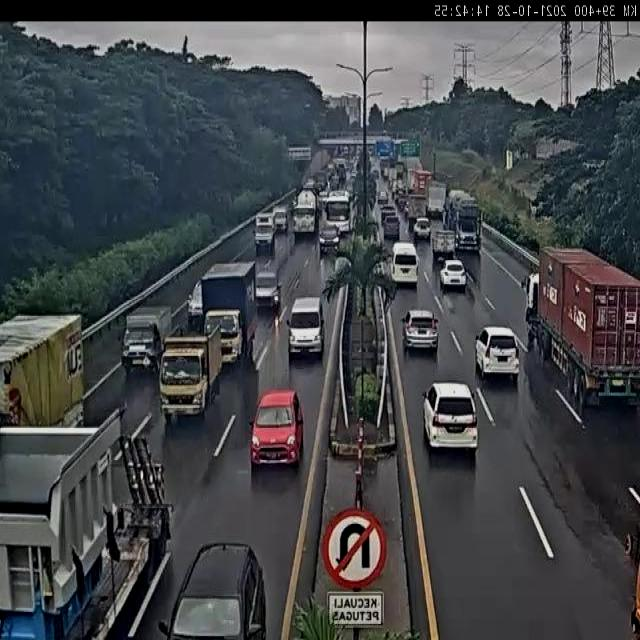Bus: (324, 190, 356, 240)
Car: (158, 541, 268, 637), (250, 388, 304, 468), (423, 380, 478, 452), (474, 325, 520, 380), (402, 308, 439, 352), (439, 260, 467, 292), (318, 223, 341, 256), (413, 218, 431, 242), (378, 188, 388, 203)
Truck: (0, 422, 176, 640), (530, 249, 640, 415), (158, 321, 226, 424), (196, 263, 258, 364), (122, 306, 172, 378), (443, 187, 482, 255), (292, 190, 320, 240), (427, 180, 448, 225), (254, 213, 276, 254), (431, 229, 455, 261)
Van: (288, 295, 324, 358), (390, 241, 419, 286)
